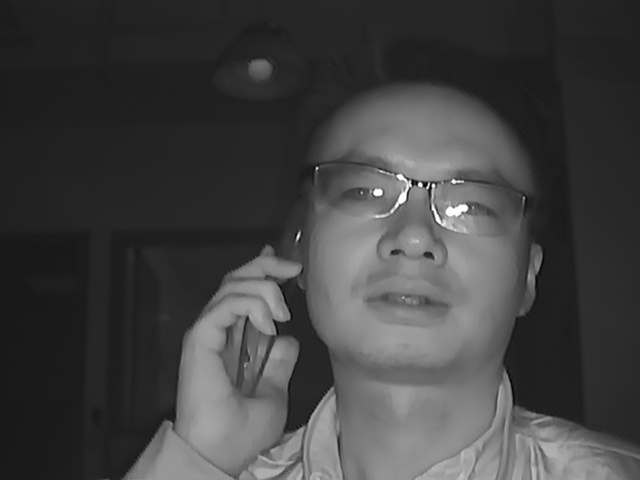hand: (168, 245, 305, 452)
